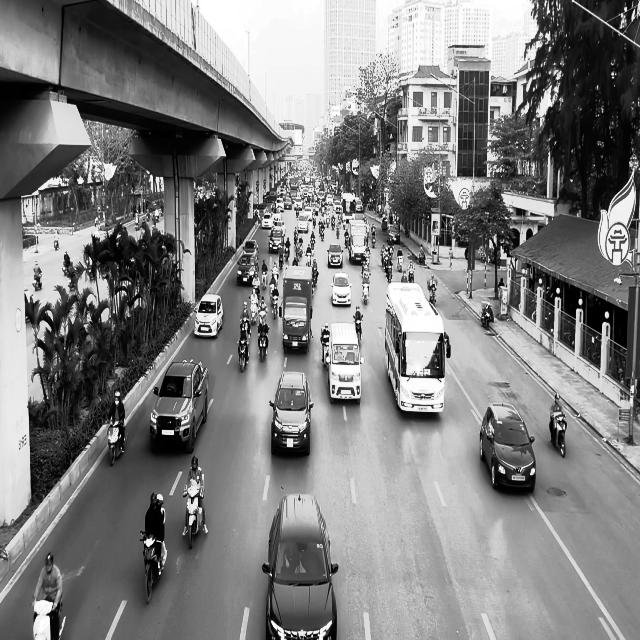bus: (385, 281, 451, 414)
car: (262, 492, 338, 640), (150, 358, 209, 454), (480, 402, 536, 492), (269, 370, 314, 456), (194, 294, 224, 338), (331, 272, 352, 306), (328, 244, 343, 267)
motorbike: (140, 530, 167, 603), (182, 482, 205, 549), (107, 418, 128, 466), (550, 413, 567, 458), (238, 335, 251, 373), (258, 326, 269, 362), (482, 303, 494, 328), (322, 335, 331, 368), (354, 314, 364, 343), (33, 268, 43, 290), (429, 283, 437, 304)
truck: (281, 265, 314, 352)
